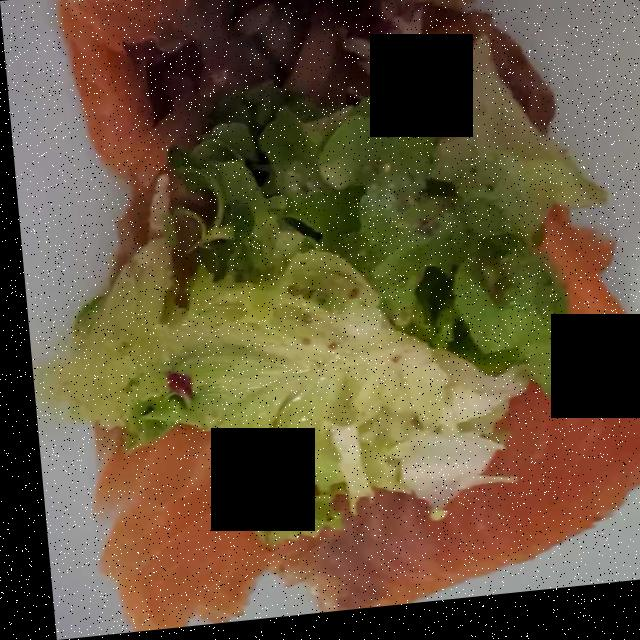salad-leaf-salad-green: (38, 77, 599, 554)
salmon-smoked: (62, 0, 640, 612)
